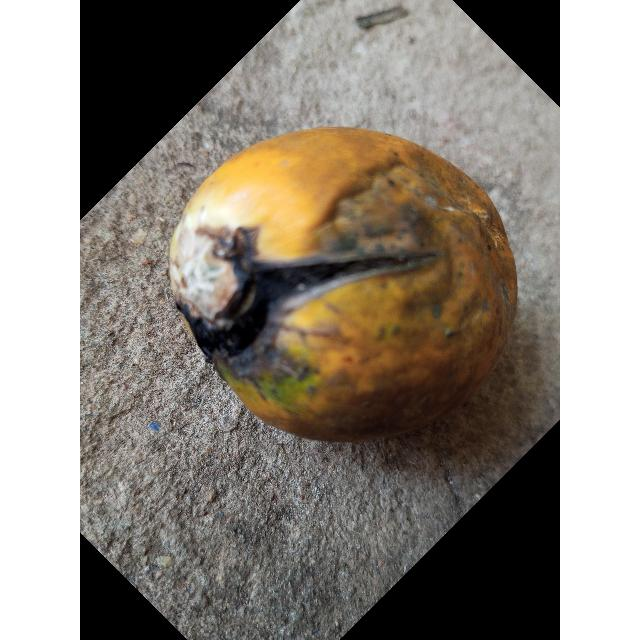damaged: (169, 128, 517, 442)
